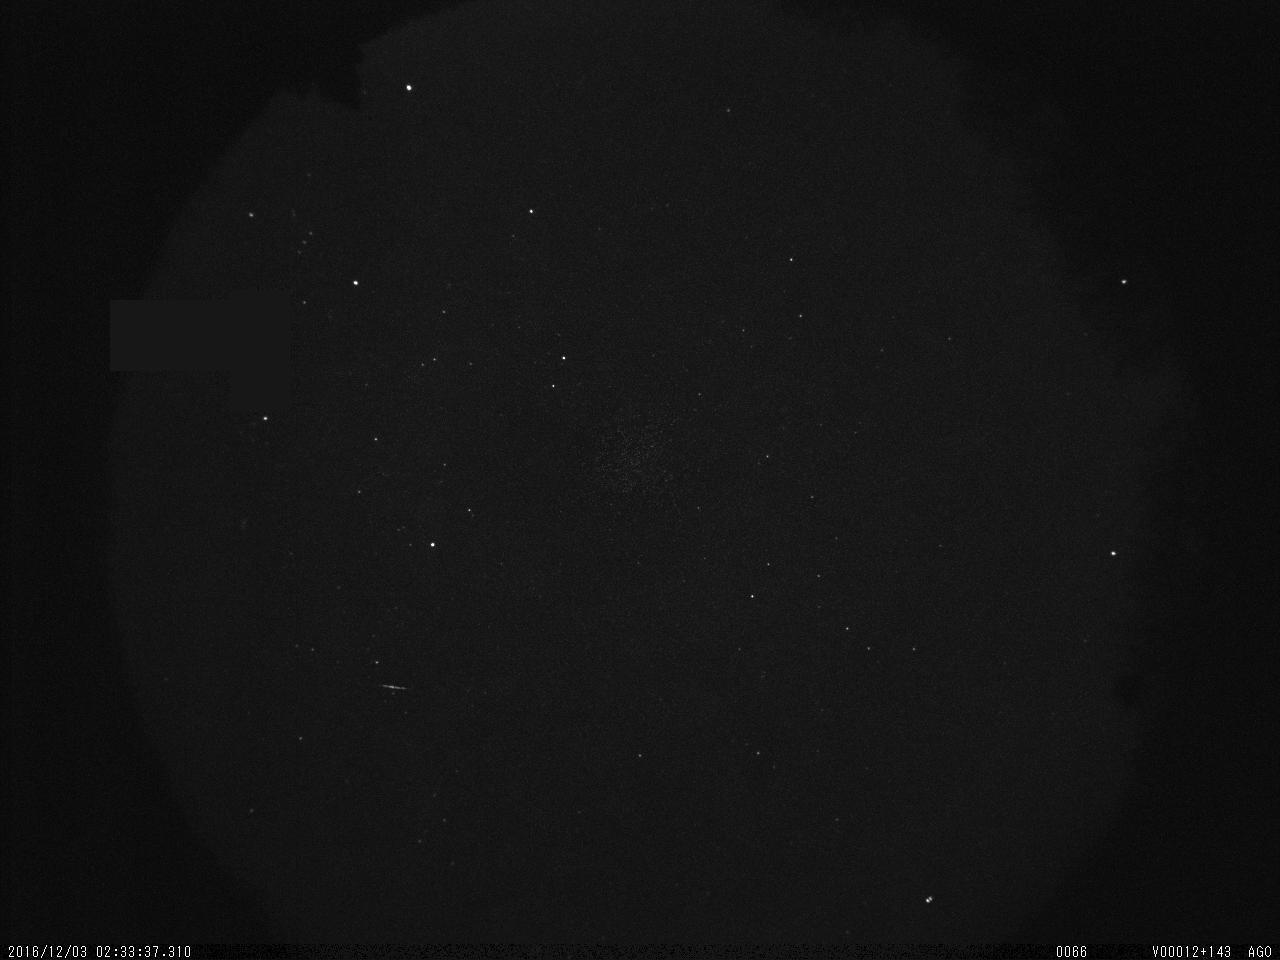meteor: (356, 667, 428, 705)
